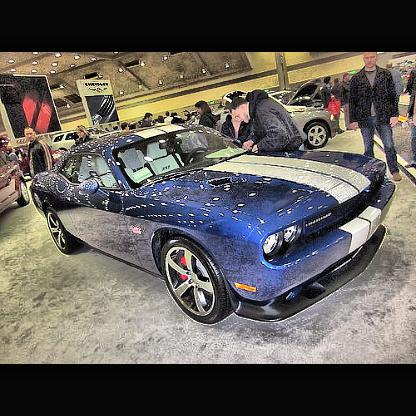Dodge Challenger SRT8 2011: (30, 124, 399, 327)
